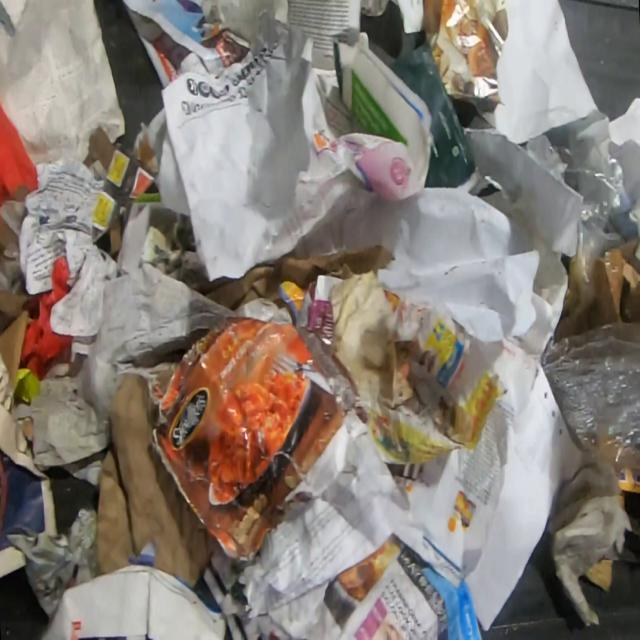cardboard: (146, 316, 358, 564), (93, 374, 218, 592), (384, 41, 483, 194), (81, 125, 158, 254), (552, 235, 640, 343), (0, 286, 33, 396)
soft_plastic: (541, 110, 640, 342), (540, 317, 640, 486)
